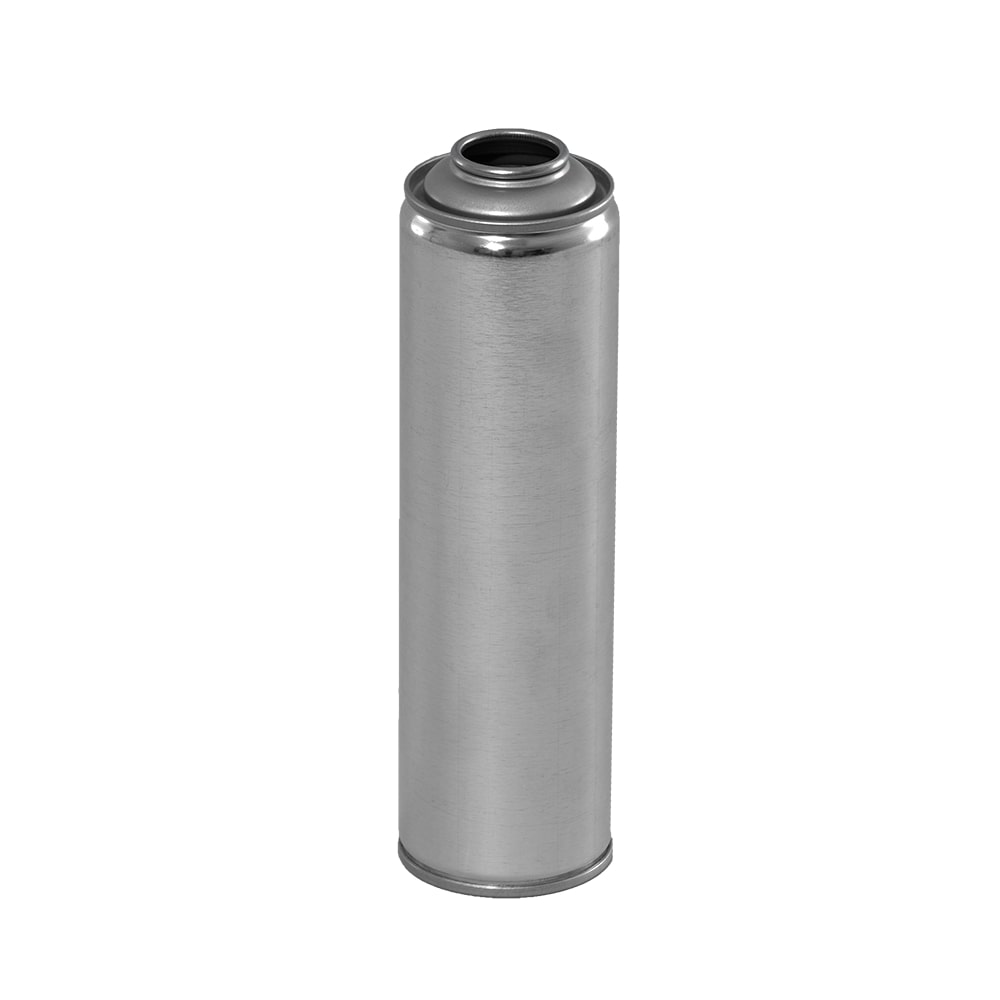metal: (395, 127, 625, 902)
